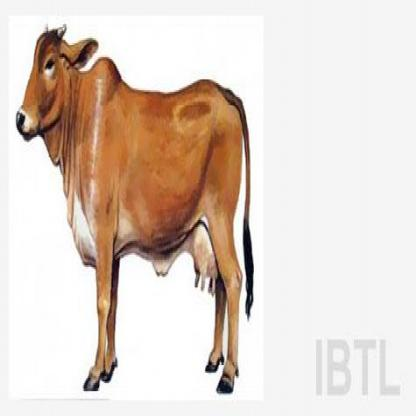cow: (16, 25, 254, 393)
